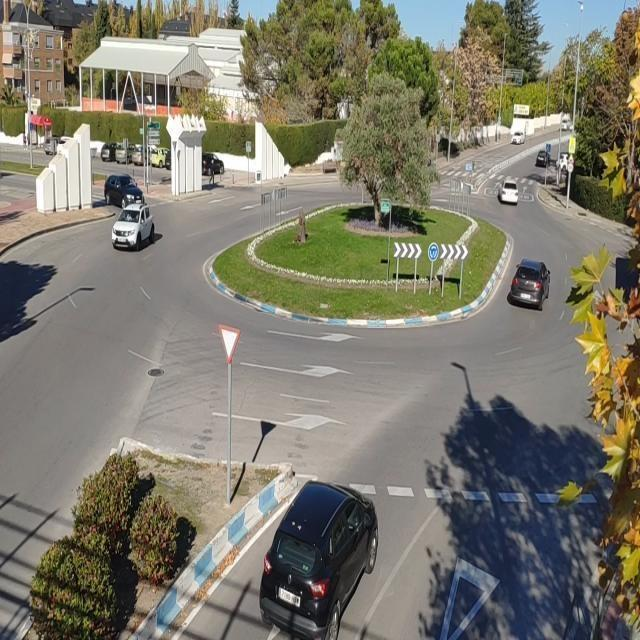Car: (232, 466, 394, 638), (107, 197, 154, 259), (506, 250, 556, 307), (102, 167, 146, 207), (497, 178, 525, 209), (552, 153, 575, 176), (508, 127, 531, 148), (534, 150, 550, 168)
